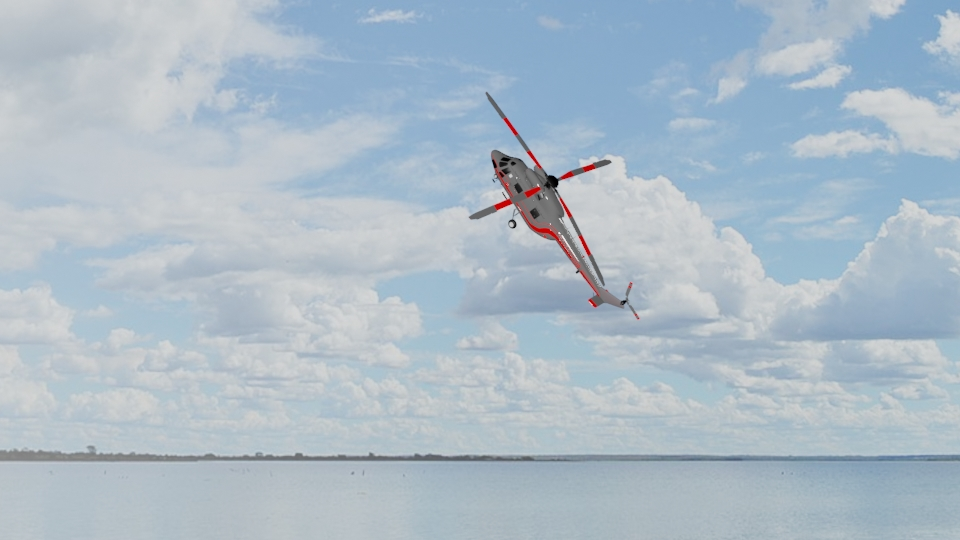heli: (462, 89, 642, 314)
